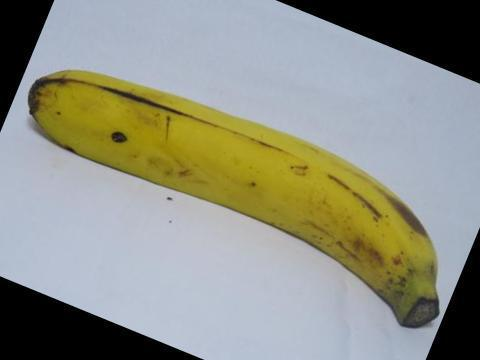ripe: (15, 52, 448, 341)
